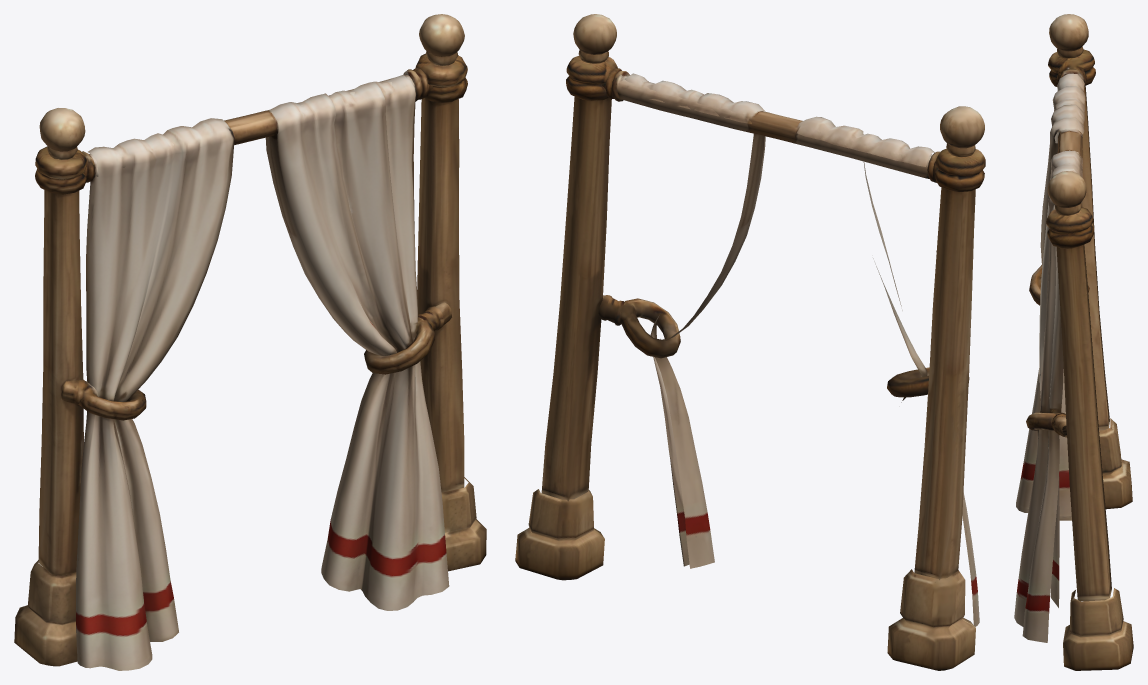
File: act1_kit_v1_curtain_pair.glb
3 renders of one model, left to right at view 1: azimuth 30°, elevation 25°; view 2: azimuth 150°, elevation 25°; view 3: azimuth 270°, elevation 25°, orthographic. The views are drawn at different scales.
Visible parts, largest first — view 1: act1_kit_v1_curtain_pair; view 2: act1_kit_v1_curtain_pair; view 3: act1_kit_v1_curtain_pair.
Part boxes in pixels (<box>): act1_kit_v1_curtain_pair: <box>14,14,486,670</box>; act1_kit_v1_curtain_pair: <box>515,14,985,670</box>; act1_kit_v1_curtain_pair: <box>1014,14,1133,670</box>.
Bounding box in the file's own units: 0.8476 × 1 × 0.2251.
1 material, 1 textured.
